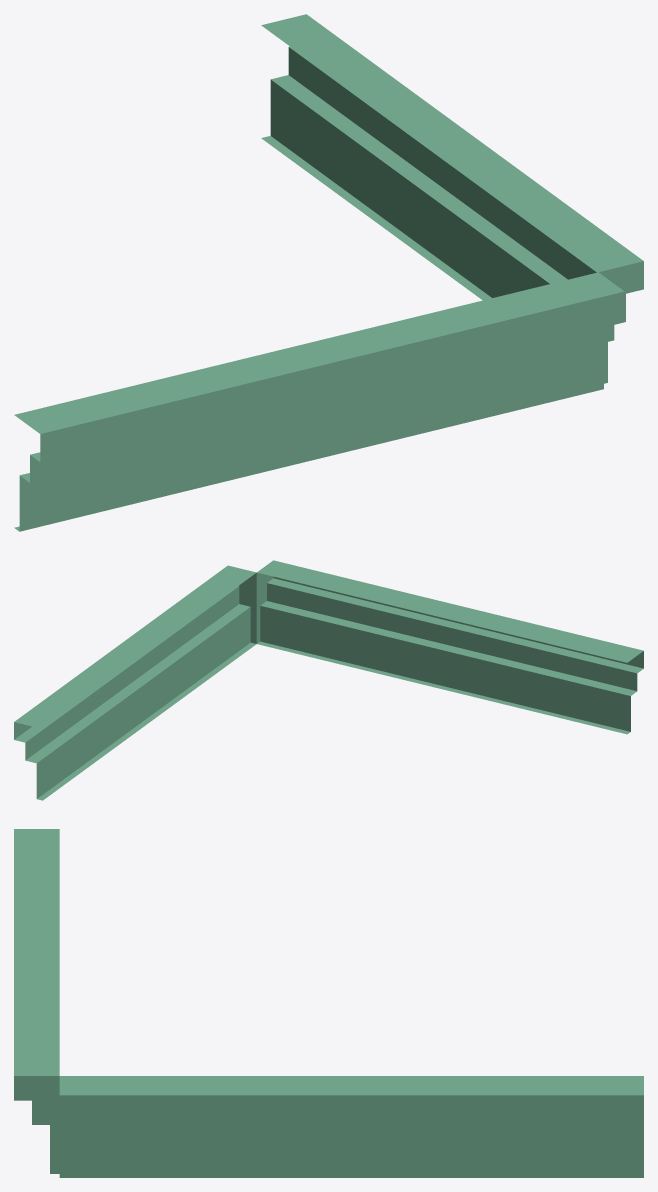
The model's file is object_B1_Top_floors_div_corner.glb.
3 renders of one model, top to bottom at view 1: azimuth 30°, elevation 25°; view 2: azimuth 150°, elevation 25°; view 3: azimuth 270°, elevation 25°, orthographic. The views are drawn at different scales.
Parts seen in each view (by area): view 1: B1 Top floors div corner; view 2: B1 Top floors div corner; view 3: B1 Top floors div corner.
Part boxes in pixels (x1,y1,x2,y2): B1 Top floors div corner: [14, 14, 643, 531]; B1 Top floors div corner: [14, 560, 643, 800]; B1 Top floors div corner: [14, 829, 643, 1177].
Size of the model in its own units: 3.5 by 0.6 by 3.5.
